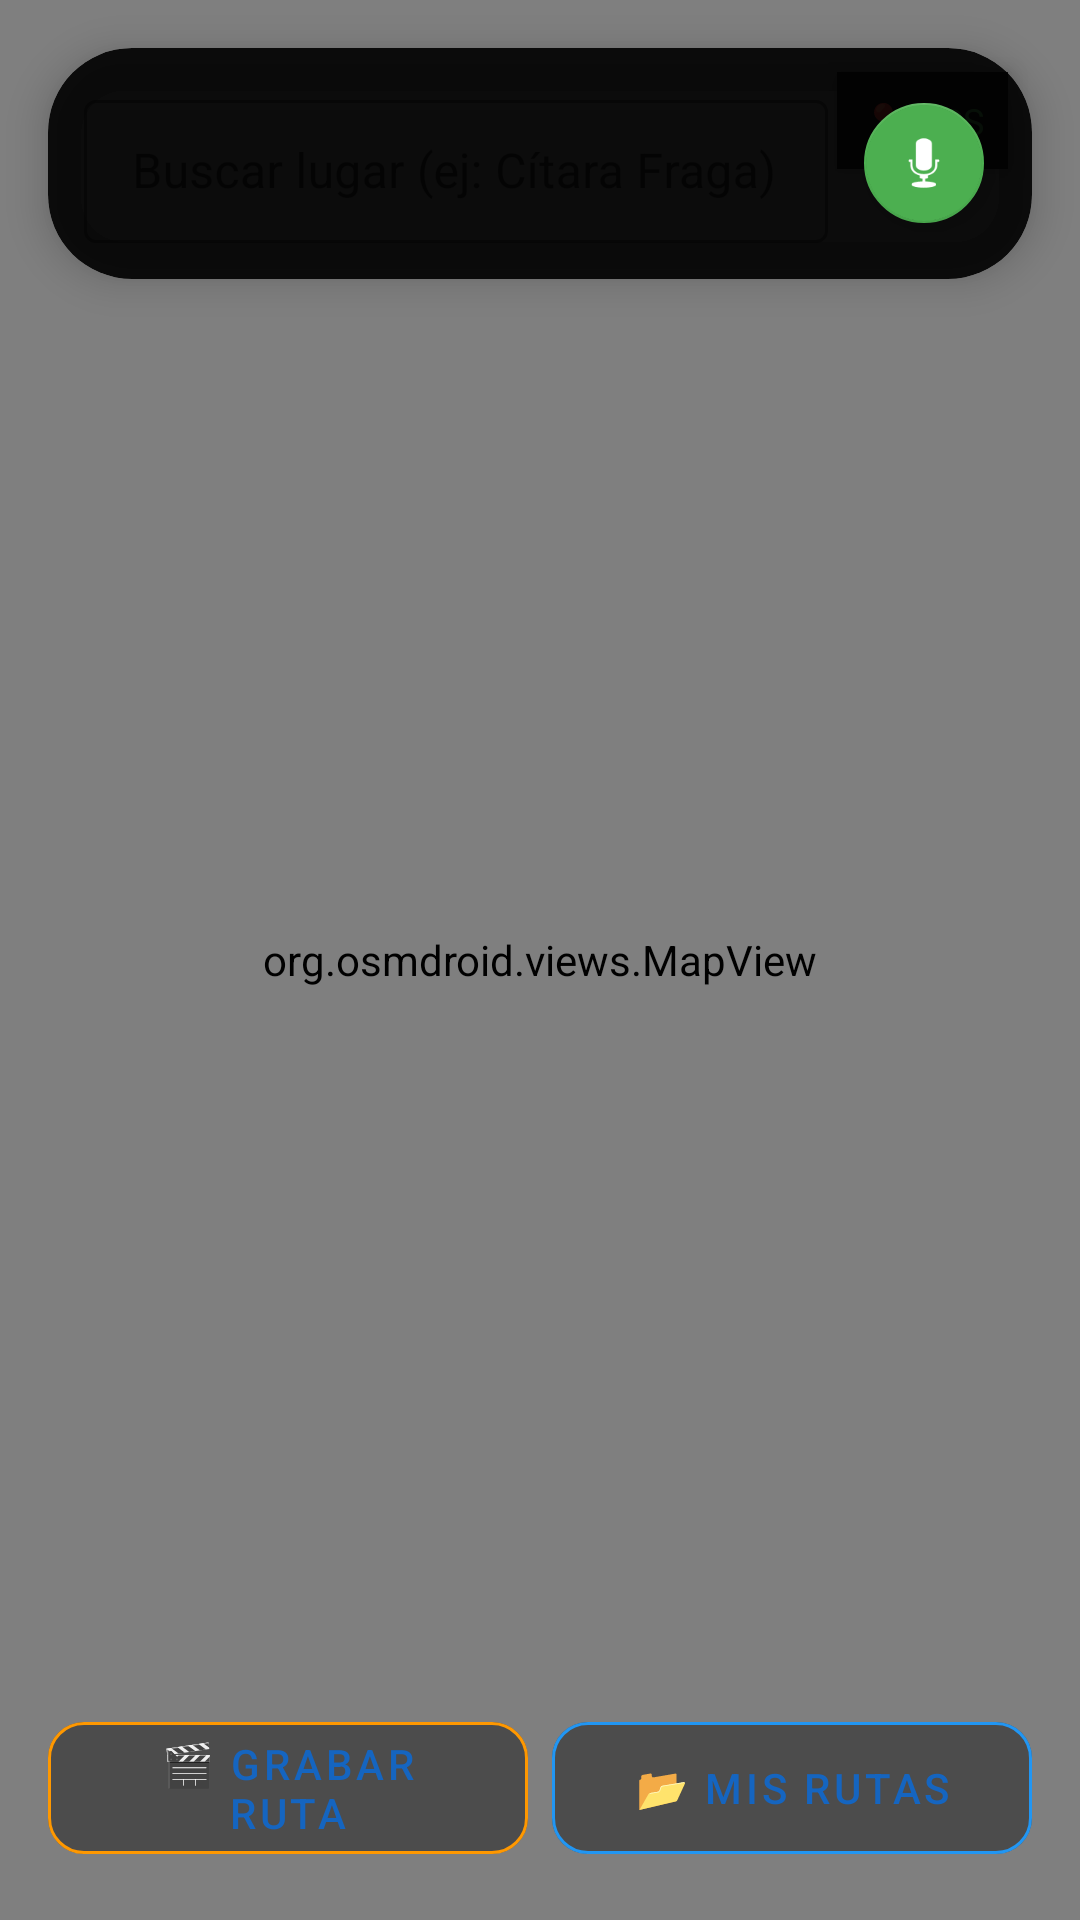

Named icons in this screenshot (1080px x 1920px) and their centers, (x,y):
Búsqueda por voz: (924,163)
